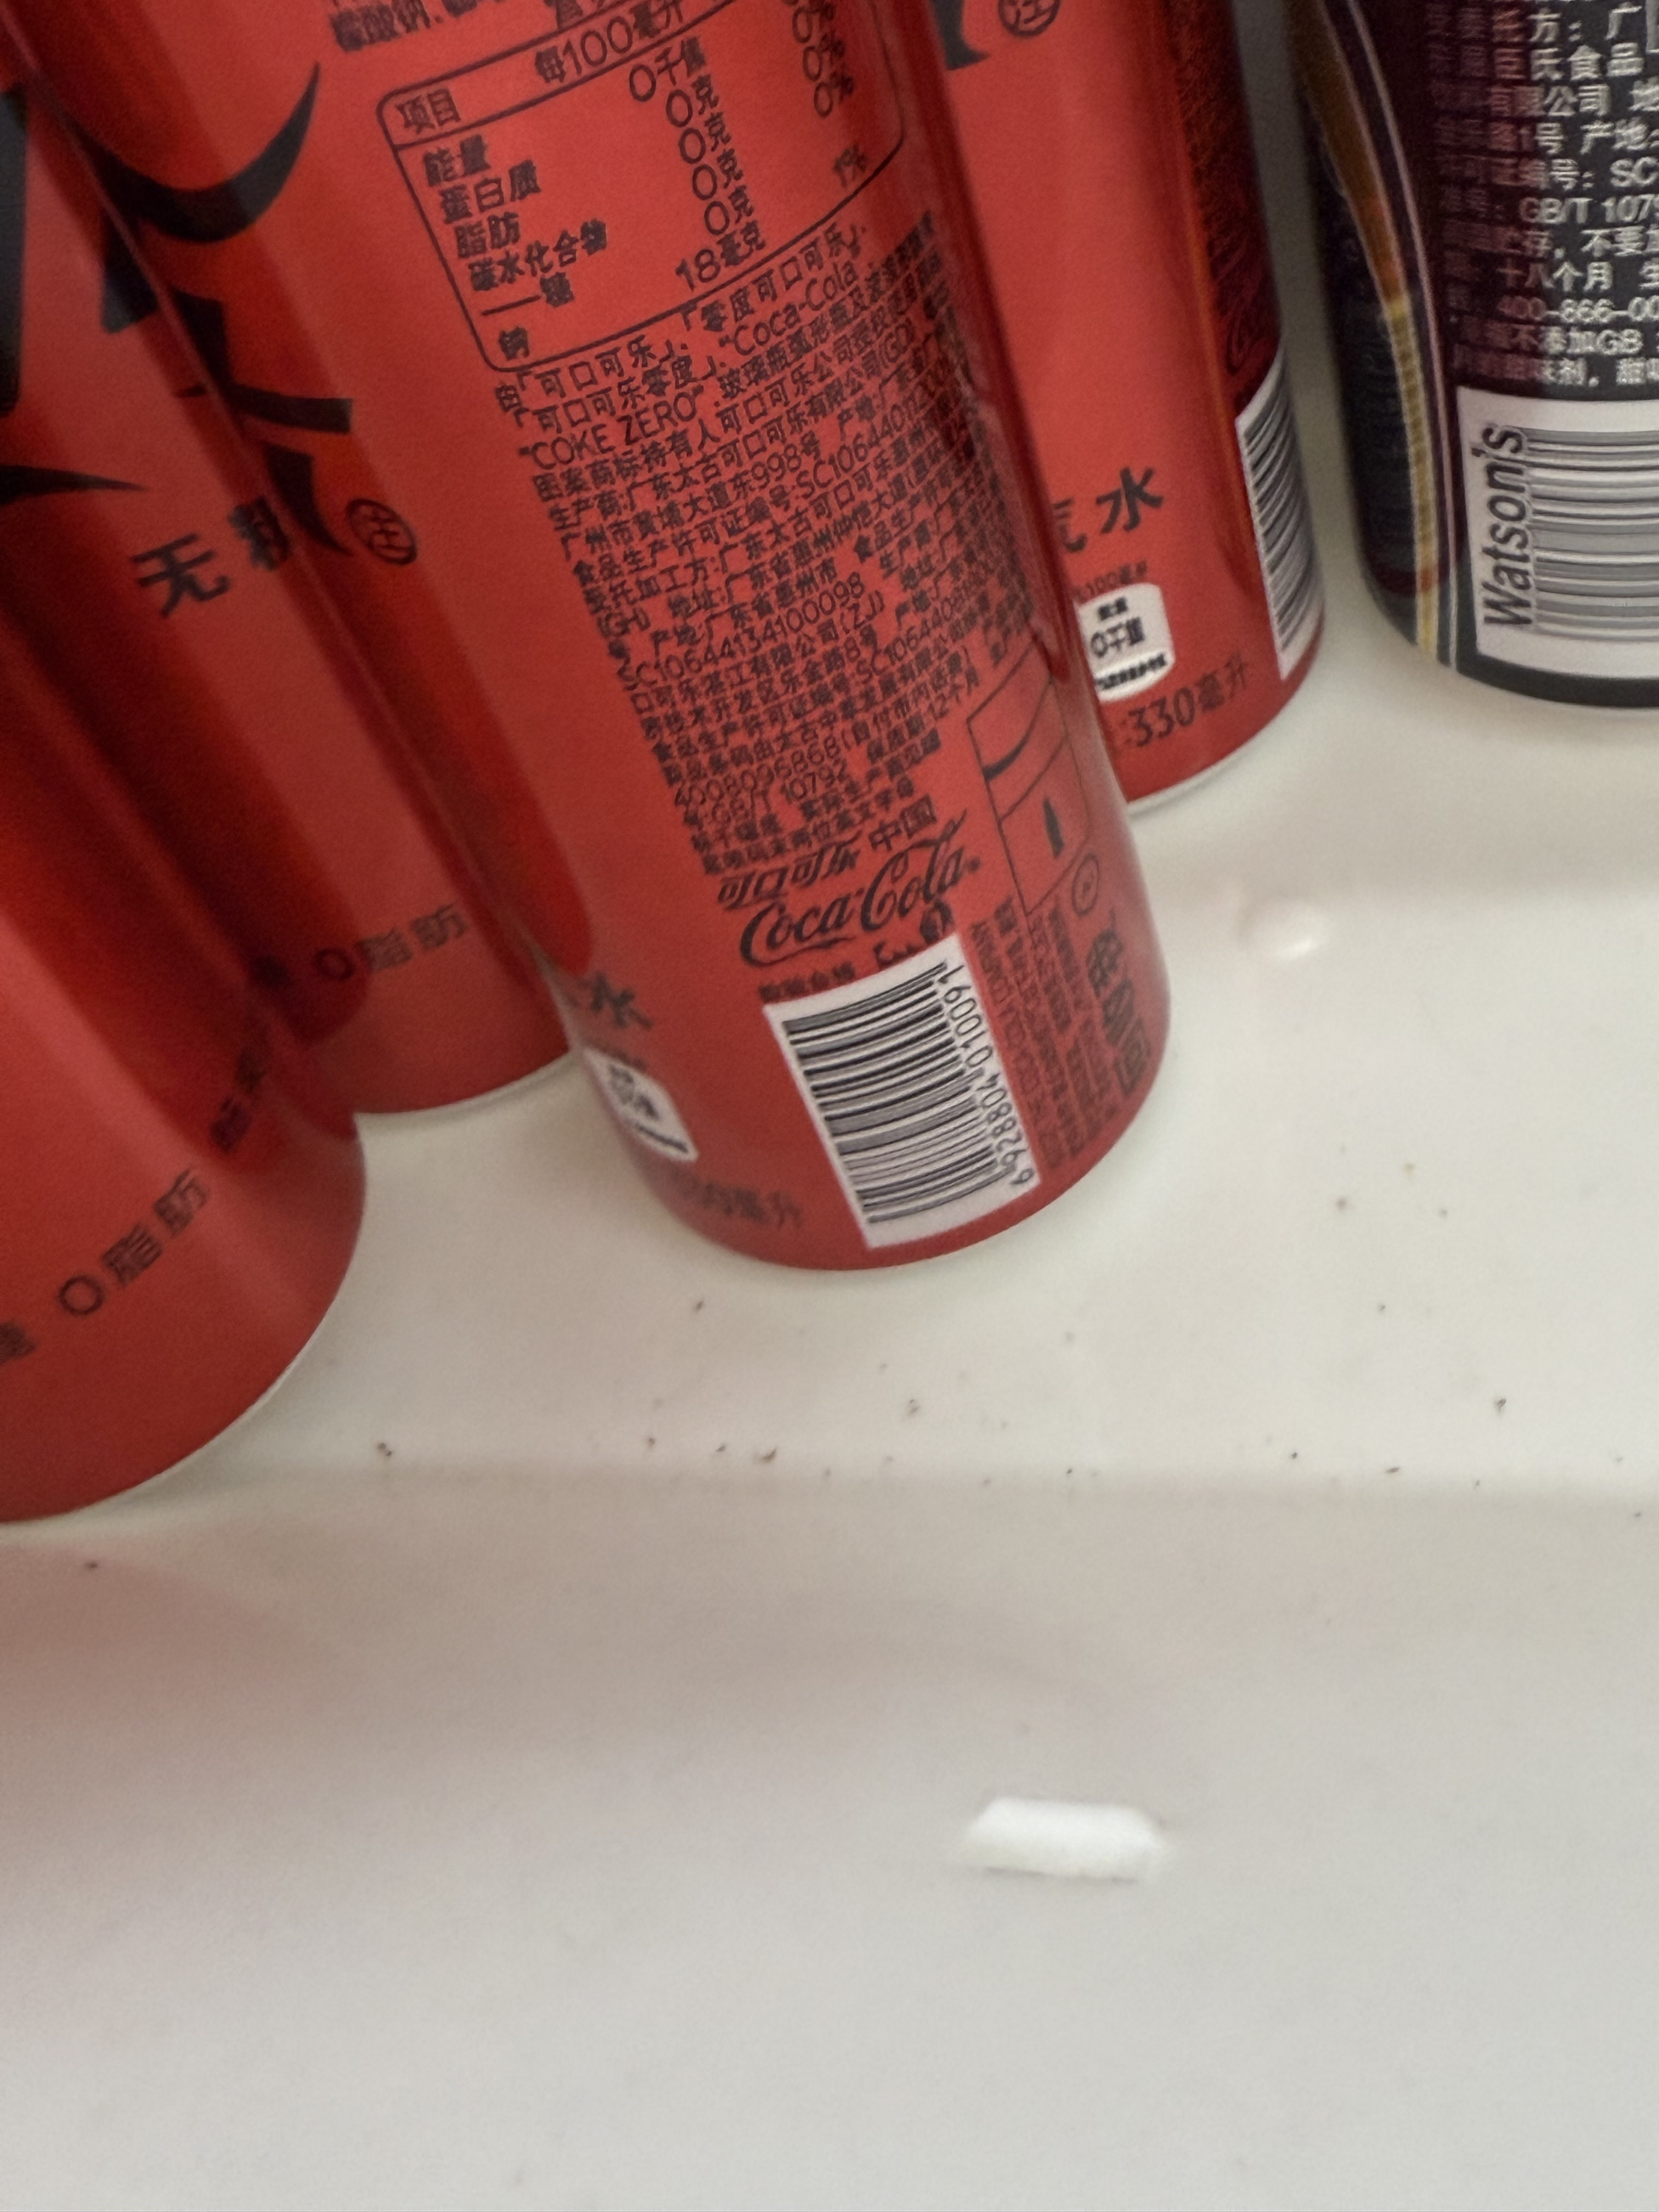bar: (775, 951, 1025, 1237), (1234, 334, 1328, 667)
